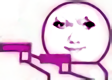dragon: (53, 16, 97, 52)
